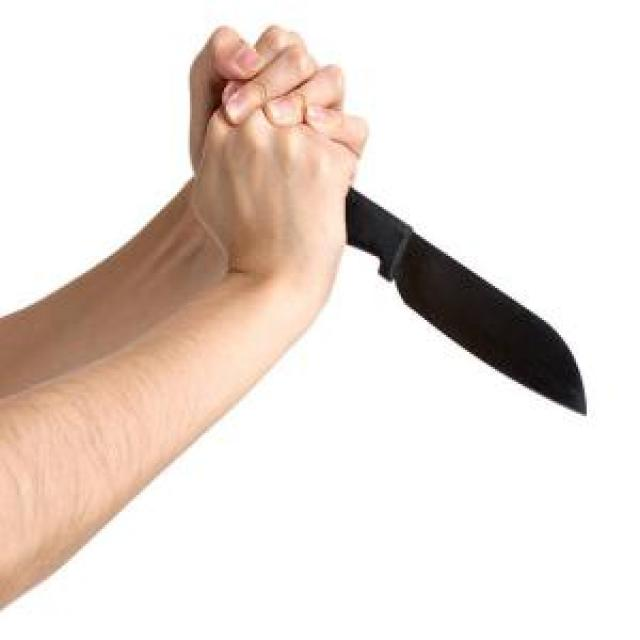knife: (252, 126, 597, 417)
